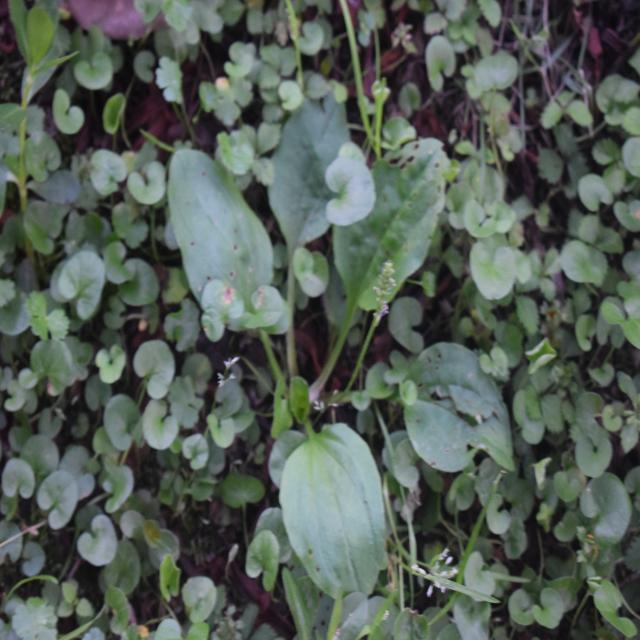plantain: (152, 90, 503, 560)
